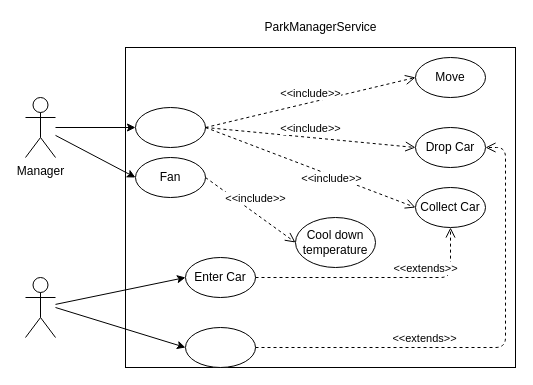
This 533x385 diagram has some shape labels left out. The shapes that lost their labels are listed below. From the top down, each one's centre as x and y in pixels, then its label:
At (170,127): "DDR Robot".
At (40,307): "Client".
At (220,347): "Pick up Car".
